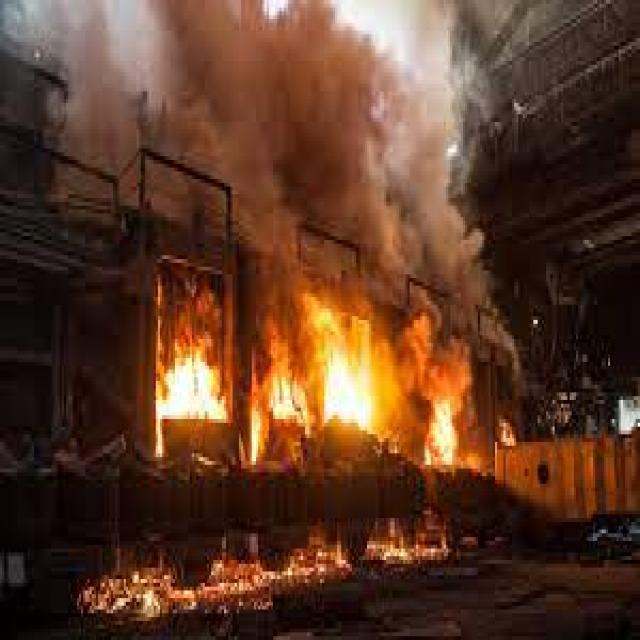fire: (72, 530, 348, 632), (156, 343, 232, 457), (252, 343, 311, 461), (318, 332, 377, 434), (358, 514, 448, 576), (422, 396, 461, 465)
smoke: (151, 4, 510, 328), (43, 4, 138, 209), (391, 308, 474, 408)
